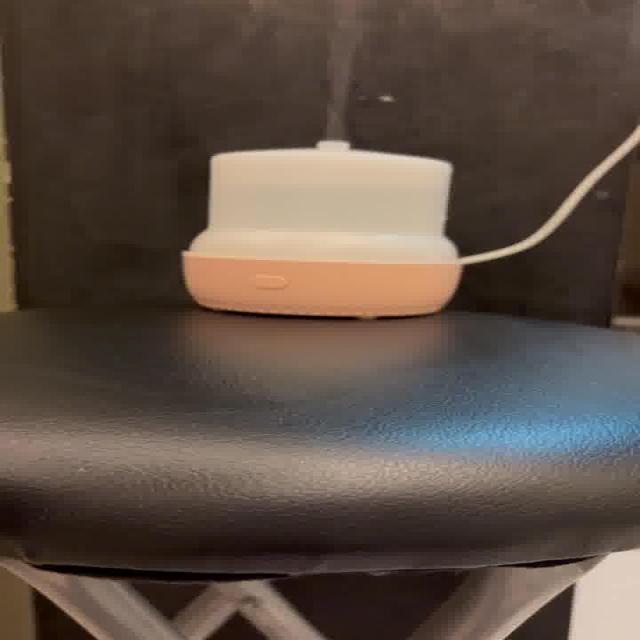fire: (319, 9, 360, 136)
